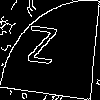Z: (25, 25, 58, 74)
